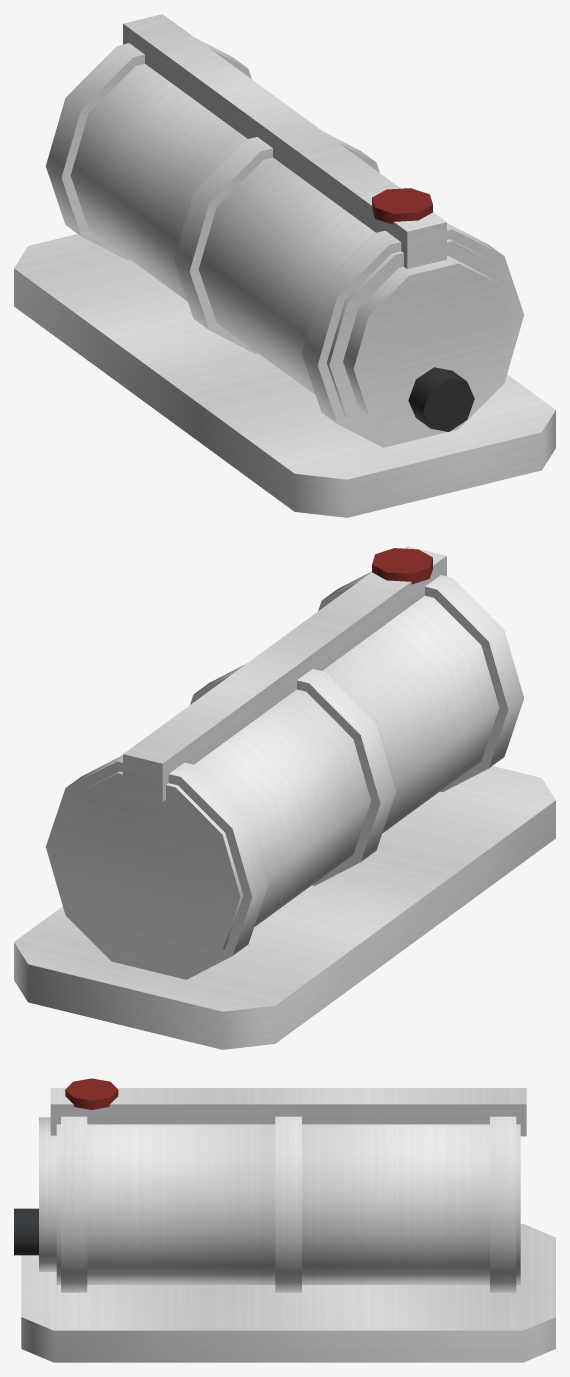
File: glucosoid_pump.obj
The picture shows the model from 3 angles, top to bottom: view 1: azimuth 30°, elevation 25°; view 2: azimuth 150°, elevation 25°; view 3: azimuth 270°, elevation 25°; orthographic projection. The views are drawn at different scales.
Visible parts, largest first — view 1: source_component_000, source_component_001, source_component_006, source_component_005, source_component_002, source_component_004, source_component_003, source_component_008, source_component_007; view 2: source_component_001, source_component_000, source_component_005, source_component_004, source_component_002, source_component_003, source_component_007; view 3: source_component_001, source_component_000, source_component_005, source_component_003, source_component_002, source_component_004, source_component_006, source_component_007, source_component_008.
Part boxes in pixels (left/top/right/bottom): source_component_000: left=14, top=234, right=555, bottom=517; source_component_001: left=70, top=64, right=517, bottom=442; source_component_006: left=343, top=256, right=514, bottom=435; source_component_005: left=123, top=14, right=446, bottom=268; source_component_002: left=302, top=223, right=523, bottom=447; source_component_004: left=45, top=38, right=251, bottom=260; source_component_003: left=174, top=131, right=379, bottom=353; source_component_008: left=408, top=367, right=474, bottom=431; source_component_007: left=372, top=188, right=432, bottom=224; source_component_001: left=52, top=595, right=499, bottom=974; source_component_000: left=14, top=766, right=555, bottom=1049; source_component_005: left=123, top=546, right=446, bottom=801; source_component_004: left=46, top=755, right=267, bottom=979; source_component_002: left=318, top=571, right=524, bottom=792; source_component_003: left=190, top=663, right=395, bottom=885; source_component_007: left=372, top=548, right=432, bottom=584; source_component_001: left=56, top=1124, right=520, bottom=1284; source_component_000: left=21, top=1224, right=555, bottom=1362; source_component_005: left=50, top=1088, right=526, bottom=1136; source_component_003: left=275, top=1116, right=301, bottom=1292; source_component_002: left=61, top=1116, right=87, bottom=1292; source_component_004: left=490, top=1116, right=516, bottom=1292; source_component_006: left=39, top=1117, right=56, bottom=1271; source_component_007: left=65, top=1078, right=118, bottom=1109; source_component_008: left=14, top=1208, right=38, bottom=1255.
Size of the model in its own units: 0.86 by 0.825 by 1.85.
